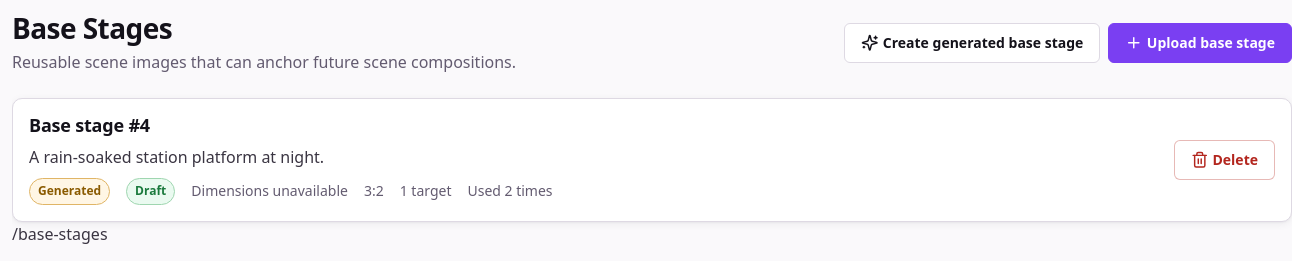
Scenario: BaseStageListPage › opens draft generated stages from the card
Click the button with aria-label "Open base stage #4 preview" at (652, 160), box [12,98,1291,222]
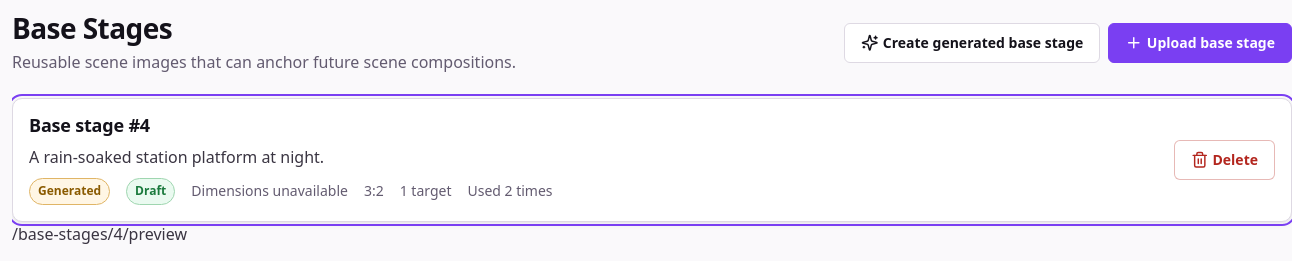
Expected: the text "Generated" is shown, [29,178,110,205]
Expected: the text with test id "location" reads "/base-stages/4/preview", [12,223,187,245]
